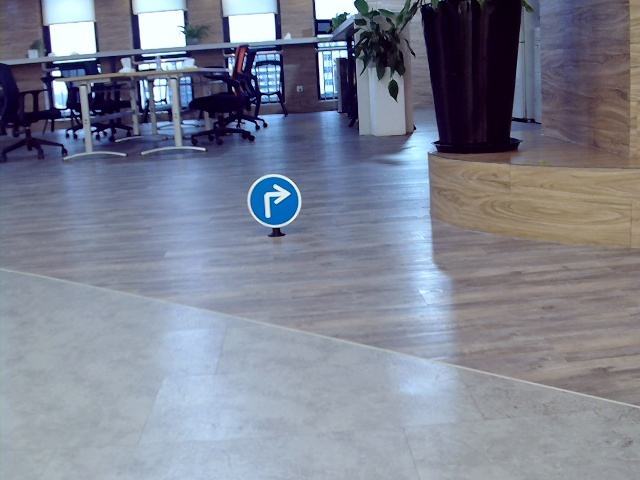turn_right: (254, 186, 290, 220)
